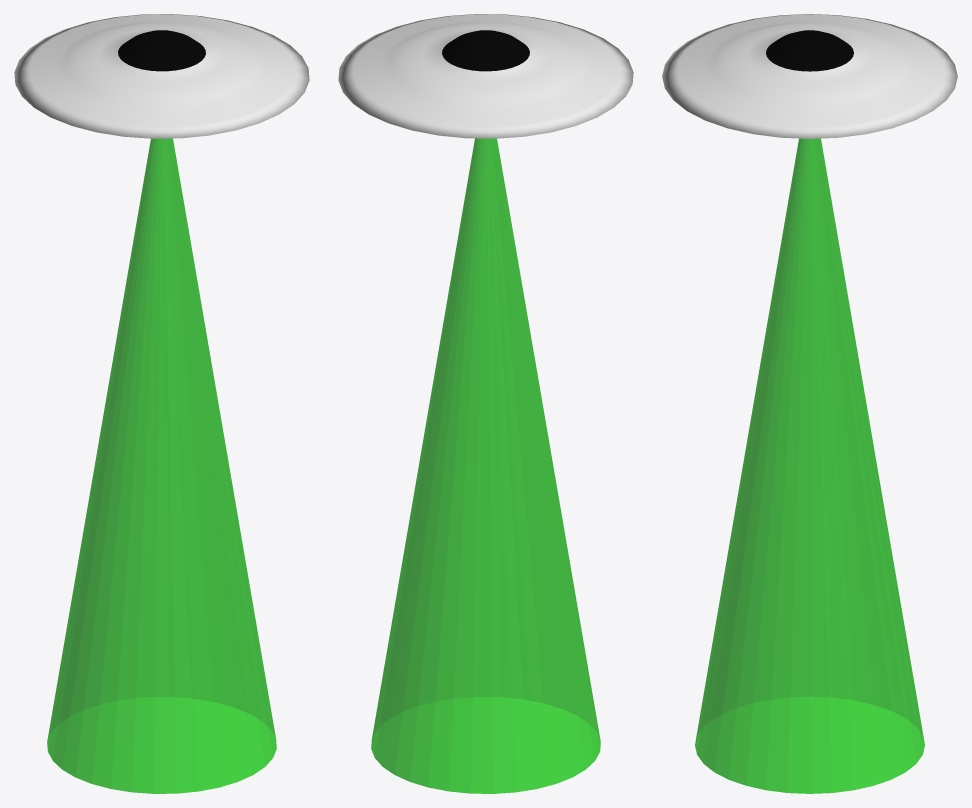
Rendered from UFO.glb.
3 renders of one model, left to right at view 1: azimuth 30°, elevation 25°; view 2: azimuth 150°, elevation 25°; view 3: azimuth 270°, elevation 25°, orthographic.
Parts seen in each view (by area): view 1: TractorBeam, UFO; view 2: TractorBeam, UFO; view 3: TractorBeam, UFO.
Boxes of the visible parts, <box> form: TractorBeam: <box>47,138,276,793</box>; UFO: <box>14,14,309,138</box>; TractorBeam: <box>371,138,600,793</box>; UFO: <box>338,14,633,138</box>; TractorBeam: <box>695,138,924,793</box>; UFO: <box>662,14,957,138</box>.
Bounding box in the file's own units: 2.57 × 6.8 × 2.57.
